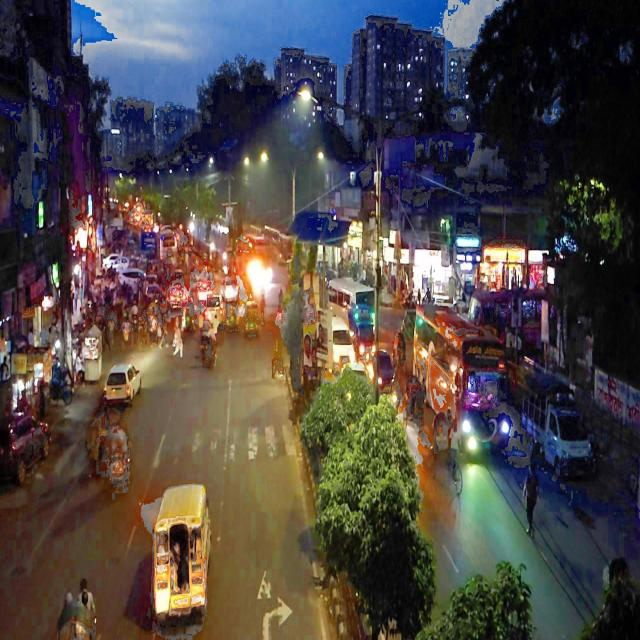maroon: (0, 415, 51, 484)
white: (102, 364, 142, 405)
